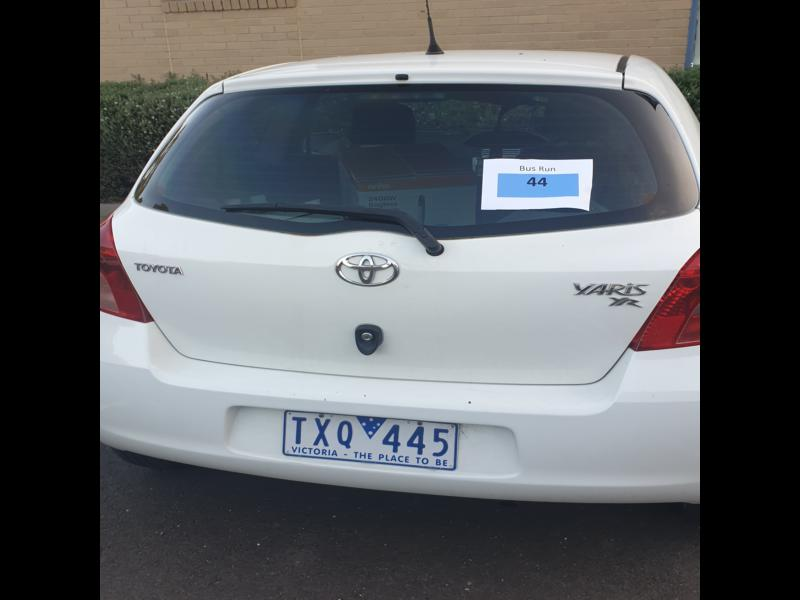BusRun: (494, 171, 581, 195)
PlateNo: (279, 406, 462, 474)
